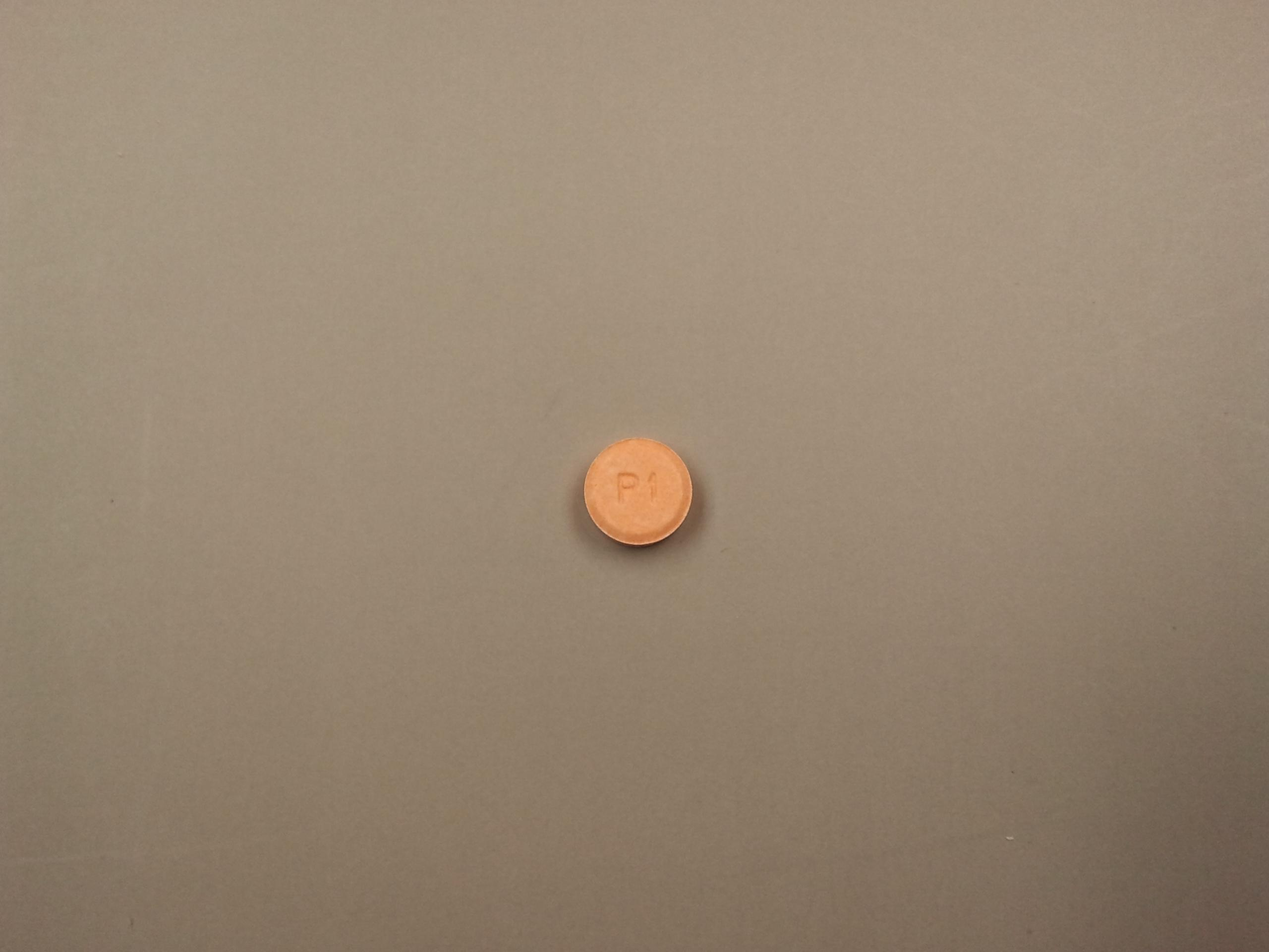Pill: (570, 398, 692, 521)
